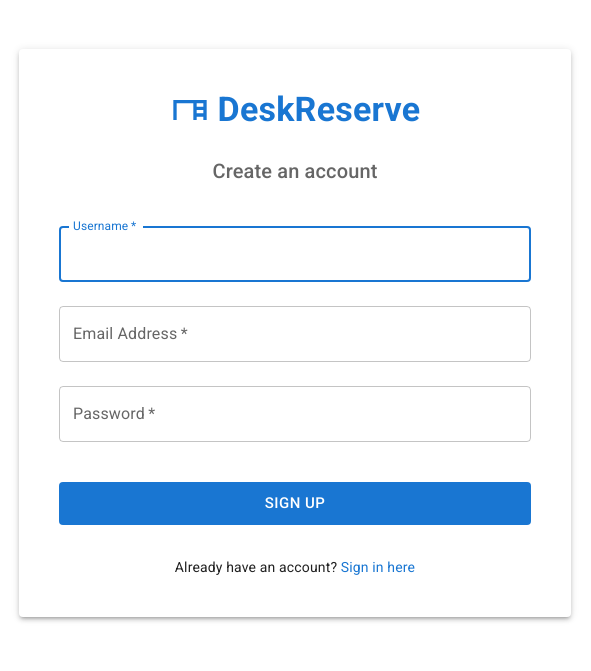
Scenario: Register Component › 3. displays error on failed registration
The image size is (591, 671).
Type "existinguser" into the field labelled "Username *".
click(295, 254); type("existinguser")  # box [59,226,531,282]
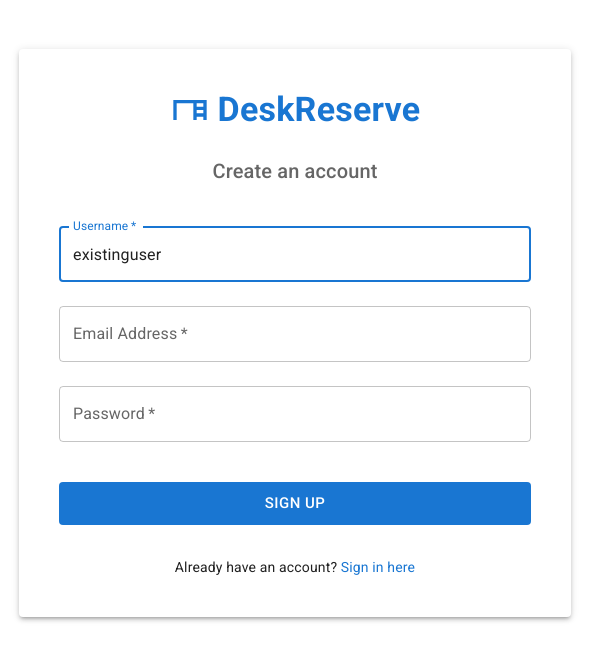
Type "test@test.com" into the field labelled "Email Address *".
click(295, 334); type("test@test.com")  # box [59,306,531,362]
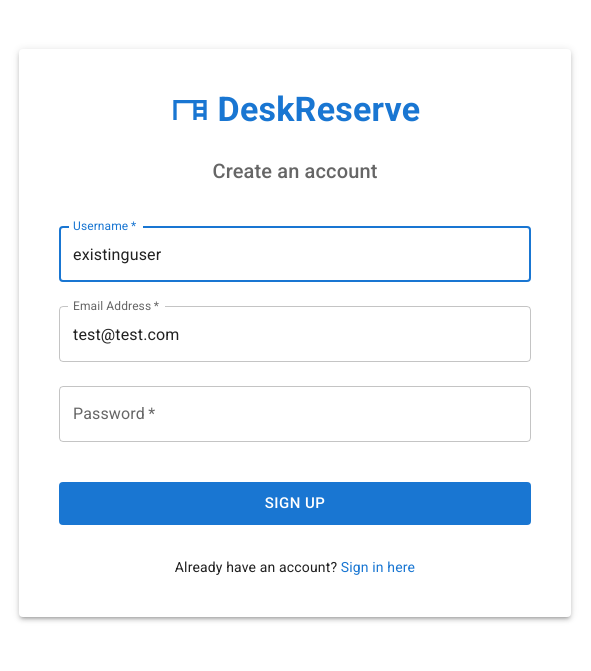
Type "secure123" into the password field labelled "Password *".
click(295, 414); type("secure123")  # box [59,386,531,442]
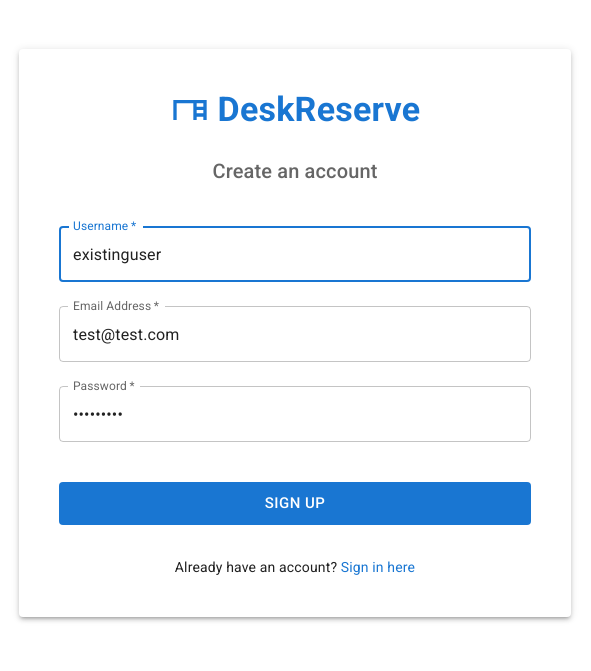
Click the button "Sign Up".
click(295, 504)  # box [59,482,531,525]
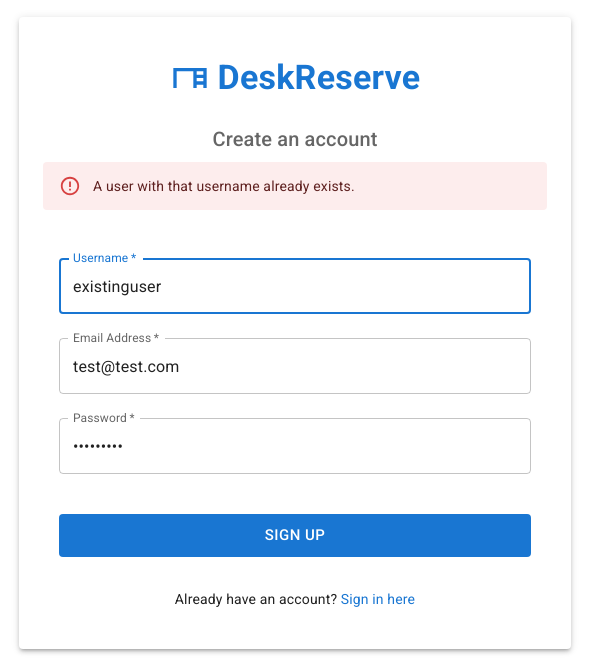
Expected: the text "A user with that username already exists." is shown, [93,178,355,194]
